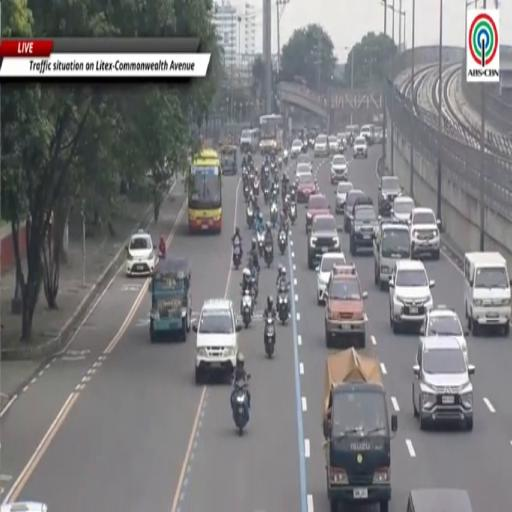bus: (188, 150, 222, 233), (259, 114, 284, 155)
car: (413, 336, 474, 430), (193, 299, 241, 383), (325, 264, 367, 348), (389, 260, 434, 333), (421, 306, 468, 363), (373, 220, 410, 290), (307, 215, 341, 269), (409, 207, 440, 260), (406, 488, 473, 511), (316, 252, 345, 305), (126, 230, 157, 276), (350, 205, 378, 254), (378, 176, 402, 216), (344, 188, 365, 232), (306, 194, 330, 232), (296, 173, 317, 204), (392, 197, 415, 222), (330, 154, 348, 184), (336, 182, 353, 213), (0, 502, 47, 511), (314, 135, 329, 157), (353, 137, 368, 158), (360, 124, 374, 145), (295, 163, 312, 179), (297, 154, 312, 168), (291, 139, 302, 158), (337, 133, 348, 152), (328, 135, 339, 154), (374, 126, 383, 143)
jeepney: (149, 258, 191, 342)
motorcycle: (232, 382, 249, 436), (277, 280, 290, 325), (264, 316, 275, 358), (241, 290, 253, 328), (251, 267, 258, 308), (233, 243, 242, 269), (264, 242, 273, 267), (257, 230, 265, 257), (278, 230, 287, 254), (270, 201, 278, 227), (246, 204, 254, 228), (289, 202, 296, 225), (243, 183, 250, 202), (272, 183, 279, 201), (253, 176, 259, 196), (264, 184, 270, 203), (282, 181, 287, 200), (283, 150, 288, 165), (271, 162, 276, 174), (278, 156, 282, 169), (309, 139, 314, 149), (242, 165, 247, 175)
truck: (323, 348, 397, 511)
